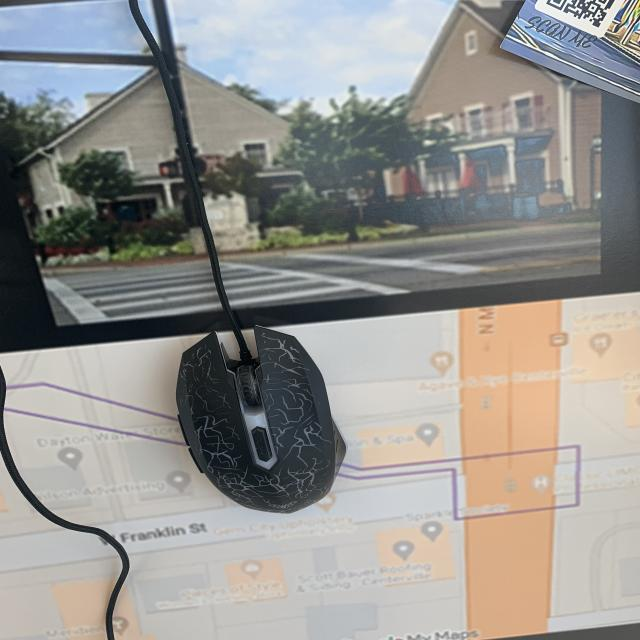Mouse: (168, 325, 354, 519)
